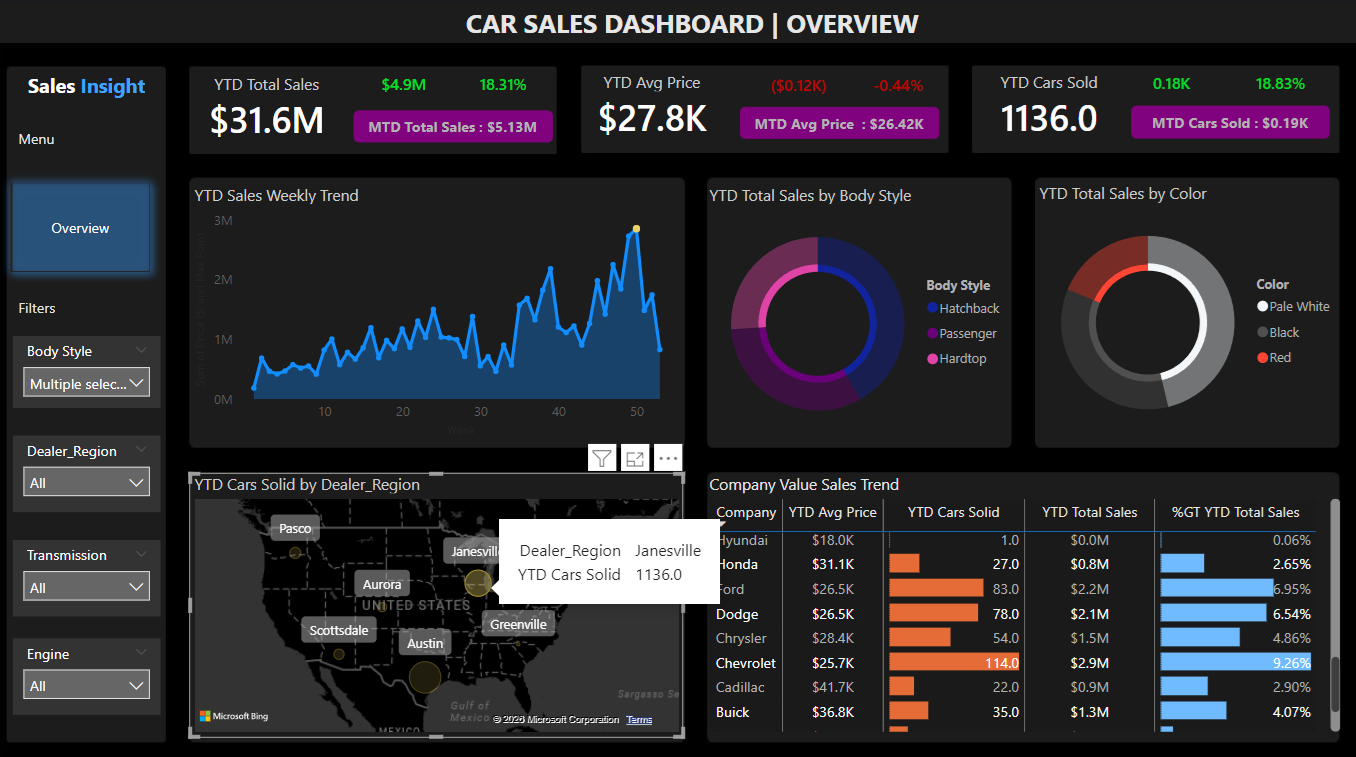

This screenshot's page, from the dashboard's own definition file:
{"tool":"powerbi","page":{"name":"Overview","canvas":[1280,720],"ordinal":0},"visuals":[{"type":"card","title":"YTD Total Sales","fields":{"Values":["car_data.YTD Total Sales"]},"box":[186.1,68,145,66.7],"z":0},{"type":"card","fields":{"Values":["car_data.Sales Difference"]},"box":[340.1,66.7,93.7,29.5],"z":1000},{"type":"card","fields":{"Values":["car_data.YoY Sales Growth"]},"box":[433.7,66.7,93.7,29.5],"z":2000},{"type":"card","fields":{"Values":["car_data.MTD KPI"]},"box":[340.5,103.4,186.5,30.3],"z":3000},{"type":"card","title":"YTD Avg Price","fields":{"Values":["car_data.YTD Avg Price"]},"box":[551.8,66.3,136,67.4],"z":4000},{"type":"card","fields":{"Values":["car_data.Avg Price Diff"]},"box":[710.2,66.3,93.3,30.3],"z":5000},{"type":"card","fields":{"Values":["car_data.YoY Avg Price Growth"]},"box":[803.5,66.3,93.3,30.3],"z":6000},{"type":"card","fields":{"Values":["car_data.MTD Avg Price KPI"]},"box":[702.4,100,186.5,30.3],"z":7000},{"type":"card","title":"YTD Cars Sold","fields":{"Values":["car_data.YTD Cars Solid"]},"box":[923.7,66.3,136,67.4],"z":8000},{"type":"card","fields":{"Values":["car_data.Cars Sold Diff"]},"box":[1059.7,65.2,93.3,30.3],"z":9000},{"type":"card","fields":{"Values":["car_data.YoY Car Solid Growth"]},"box":[1162,65.2,93.3,30.3],"z":10000},{"type":"card","fields":{"Values":["car_data.MTD Cars Sold KPI"]},"box":[1068.6,99.2,186,30.4],"z":11000},{"type":"areaChart","title":"YTD Sales Weekly Trend","fields":{"Category":["Calendar Table.Week"],"Y":["Sum(car_data.Price ($))","car_data.Max Point"]},"box":[186.5,172,463.1,242.1],"z":12000},{"type":"donutChart","fields":{"Category":["car_data.Body Style"],"Y":["car_data.YTD Total Sales"]},"box":[668.1,172,291.1,243.4],"z":13000},{"type":"donutChart","fields":{"Category":["car_data.Color"],"Y":["car_data.YTD Total Sales"]},"box":[977.7,170.7,291.1,243.4],"z":14000},{"type":"map","fields":{"Category":["car_data.Dealer_Region"],"Size":["car_data.YTD Cars Solid"]},"box":[186.5,443.2,463.1,247.4],"z":15000},{"type":"tableEx","title":"Company Value Sales Trend","fields":{"Values":["car_data.Company","car_data.YTD Avg Price","car_data.YTD Cars Solid","car_data.YTD Total Sales1","car_data.YTD Total Sales"]},"box":[668.6,442.7,600.6,247.7],"z":16000},{"type":"textbox","box":[425.9,0,463,48.3],"z":16001},{"type":"slicer","fields":{"Values":["car_data.Body Style"]},"box":[21.4,314.7,138.2,67.4],"z":16002},{"type":"slicer","fields":{"Values":["car_data.Dealer_Region"]},"box":[21.4,407.9,138.2,71.9],"z":16003},{"type":"slicer","fields":{"Values":["car_data.Transmission"]},"box":[21.4,505.7,138.2,71.9],"z":16004},{"type":"slicer","fields":{"Values":["car_data.Engine"]},"box":[21.4,597.8,138.2,71.9],"z":16005},{"type":"textbox","box":[21.4,274.2,95.5,37.1],"z":16006},{"type":"textbox","box":[15.7,61.8,149.5,34.8],"z":16007},{"type":"textbox","box":[21.4,115.7,95.5,37.1],"z":16008},{"type":"pageNavigator","box":[10.1,161.8,149.5,102.3],"z":16009}]}

Visuals, with their boxes on the page's 1280x720 design canvas (x1, y1, x2, y2). These are canvas units, not pixel positions in the 1356x757 screenshot, which may show the page scaled, cropped or inside an application window:
"YTD Total Sales" card: box(186, 68, 331, 135)
card - car_data.Sales Difference: box(340, 67, 434, 96)
card - car_data.YoY Sales Growth: box(434, 67, 527, 96)
card - car_data.MTD KPI: box(340, 103, 527, 134)
"YTD Avg Price" card: box(552, 66, 688, 134)
card - car_data.Avg Price Diff: box(710, 66, 804, 97)
card - car_data.YoY Avg Price Growth: box(804, 66, 897, 97)
card - car_data.MTD Avg Price KPI: box(702, 100, 889, 130)
"YTD Cars Sold" card: box(924, 66, 1060, 134)
card - car_data.Cars Sold Diff: box(1060, 65, 1153, 96)
card - car_data.YoY Car Solid Growth: box(1162, 65, 1255, 96)
card - car_data.MTD Cars Sold KPI: box(1069, 99, 1255, 130)
"YTD Sales Weekly Trend" areaChart: box(186, 172, 650, 414)
donutChart - car_data.Body Style x car_data.YTD Total Sales: box(668, 172, 959, 415)
donutChart - car_data.Color x car_data.YTD Total Sales: box(978, 171, 1269, 414)
map - car_data.Dealer_Region x car_data.YTD Cars Solid: box(186, 443, 650, 691)
"Company Value Sales Trend" tableEx: box(669, 443, 1269, 690)
textbox: box(426, 0, 889, 48)
slicer - car_data.Body Style: box(21, 315, 160, 382)
slicer - car_data.Dealer_Region: box(21, 408, 160, 480)
slicer - car_data.Transmission: box(21, 506, 160, 578)
slicer - car_data.Engine: box(21, 598, 160, 670)
textbox: box(21, 274, 117, 311)
textbox: box(16, 62, 165, 97)
textbox: box(21, 116, 117, 153)
pageNavigator: box(10, 162, 160, 264)
